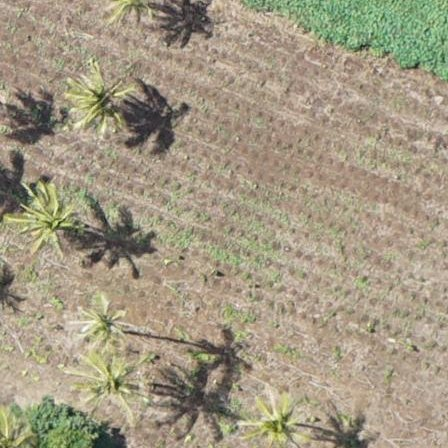palm_tree: (14, 185, 81, 255), (65, 70, 133, 135), (75, 353, 143, 411), (241, 392, 307, 448), (75, 301, 131, 347)
